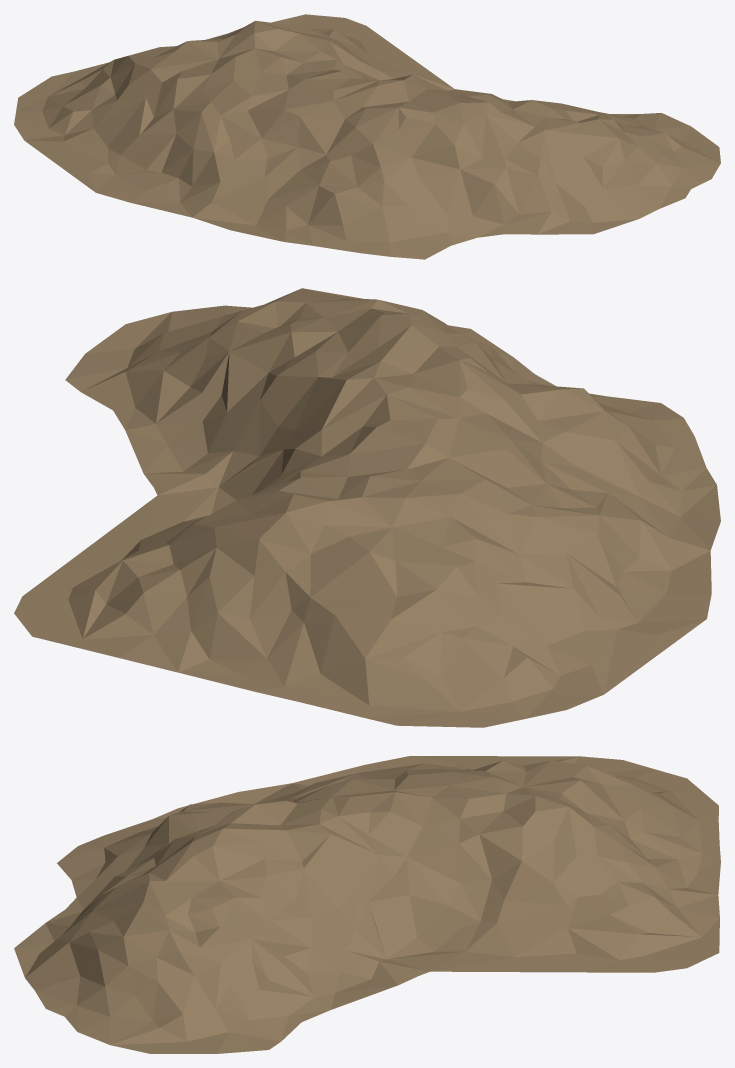
Rendered from SmallTerrain03.fbx.
3 views of the same model, one above another, from view 1: azimuth 30°, elevation 25°; view 2: azimuth 150°, elevation 25°; view 3: azimuth 270°, elevation 25° (orthographic). The views are drawn at different scales.
Visible parts, largest first — view 1: SmallTerrain03; view 2: SmallTerrain03; view 3: SmallTerrain03.
Part boxes in pixels (x1,y1,x2,y2): SmallTerrain03: (14,14,720,259); SmallTerrain03: (14,288,720,727); SmallTerrain03: (14,756,720,1053).
Bounding box in the file's own units: 44 × 6.59 × 44.09.
